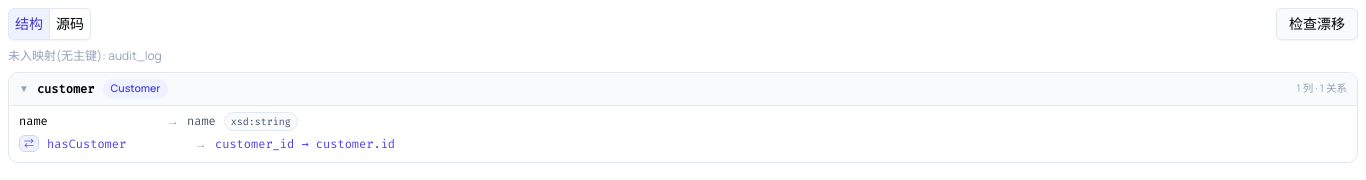
it: R2rmlPage › collapses and expands a table card from its head
Expected: the text "xsd:string" is shown, [224, 112, 298, 131]
Click the button "▼ customer Customer 1 列 · 1 关系" at (66, 89), box [9, 73, 1357, 106]
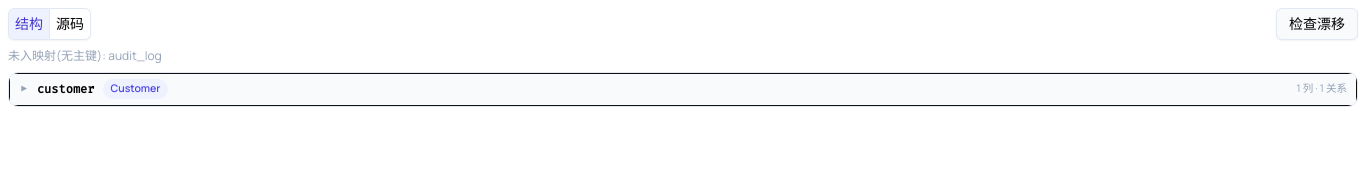
Expected: the text "1 列 · 1 关系" is shown, [1296, 81, 1347, 97]
Result: the text "xsd:string" is gone
Click the button "▼ customer Customer 1 列 · 1 关系" at (66, 89), box [9, 73, 1357, 106]
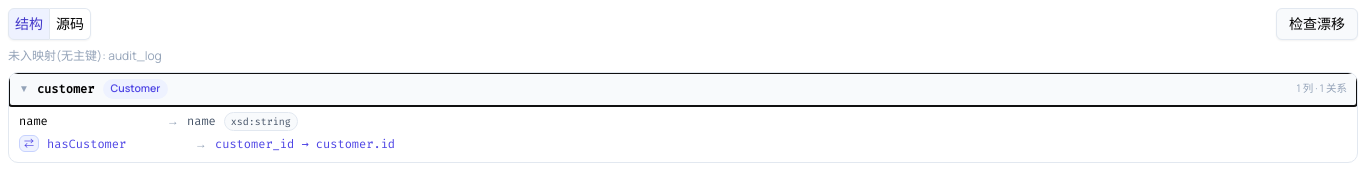
Result: the text "xsd:string" is shown at [224, 112, 298, 131]
